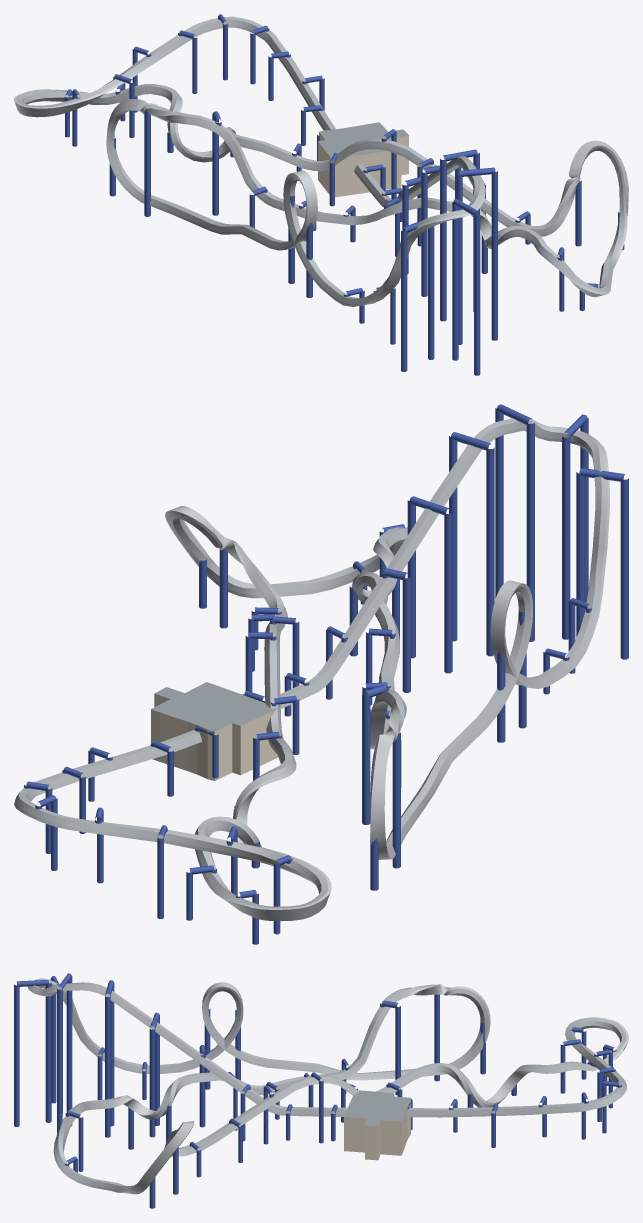
Rendered from carowinds-afterburn.glb.
The picture shows the model from 3 angles, top to bottom: view 1: azimuth 30°, elevation 25°; view 2: azimuth 150°, elevation 25°; view 3: azimuth 270°, elevation 25°; orthographic projection. The views are drawn at different scales.
Parts seen in each view (by area): view 1: Afterburn; view 2: Afterburn; view 3: Afterburn.
Part boxes in pixels (bbox=[...]): Afterburn: bbox=[14, 14, 628, 375]; Afterburn: bbox=[14, 404, 628, 944]; Afterburn: bbox=[14, 973, 628, 1208].
Bounding box in the file's own units: 97.53 × 45.54 × 161.
